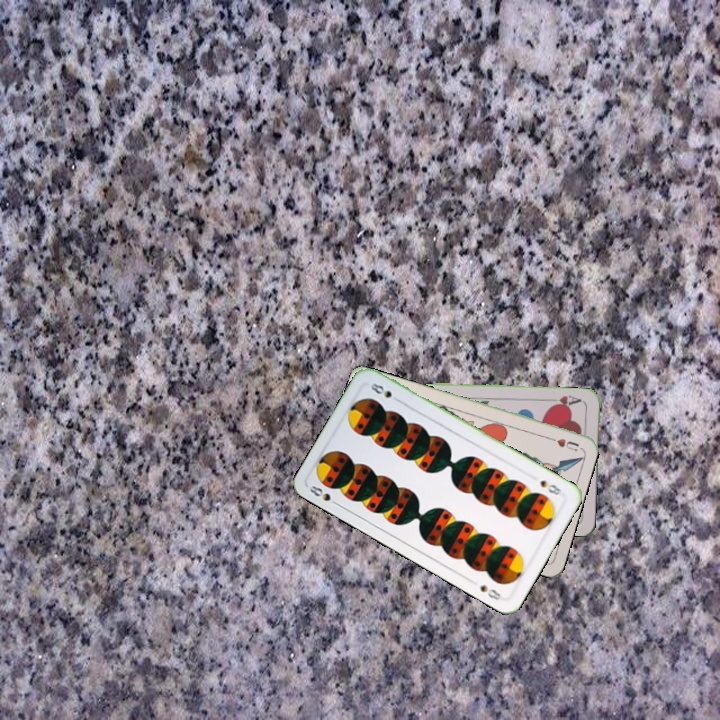HA: (545, 391, 586, 410)
HU: (543, 433, 582, 454)
S8: (305, 481, 342, 509), (536, 476, 564, 499)
